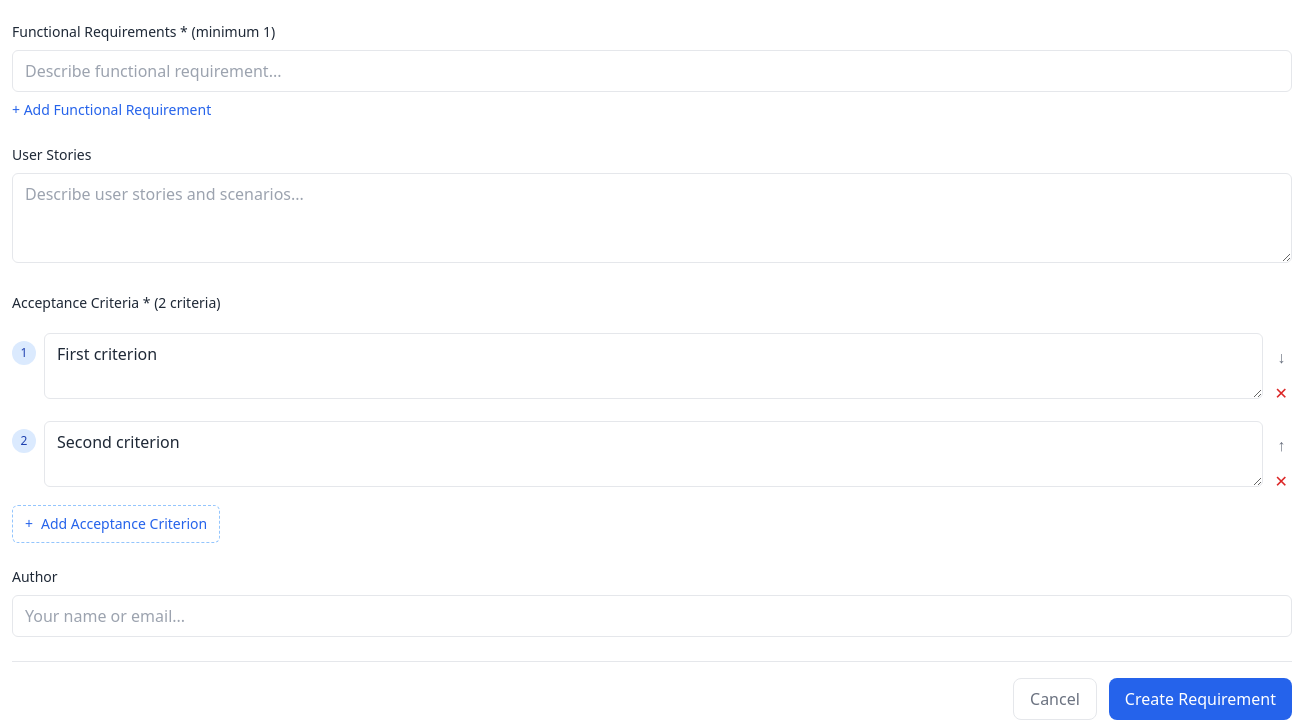
Test case: RequirementForm - Acceptance Criteria Management › Removing Criteria › should remove criterion with Ctrl+Delete keyboard shortcut
(page scrolled)
Click the 2nd text box with placeholder "Given [context], when [action], then [outcome]...".
click(653, 454)  # box [44,421,1263,487]
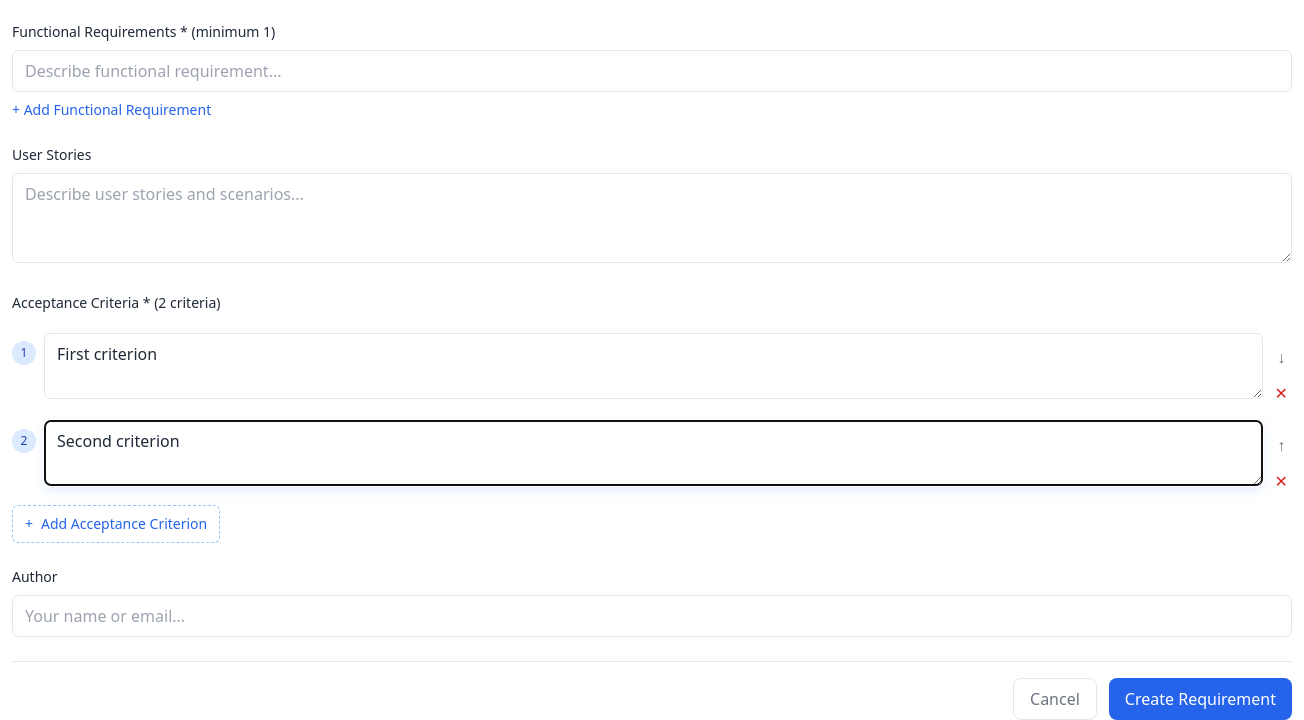
Type keys "{Control>}{Delete}{/Control}"
(page scrolled)
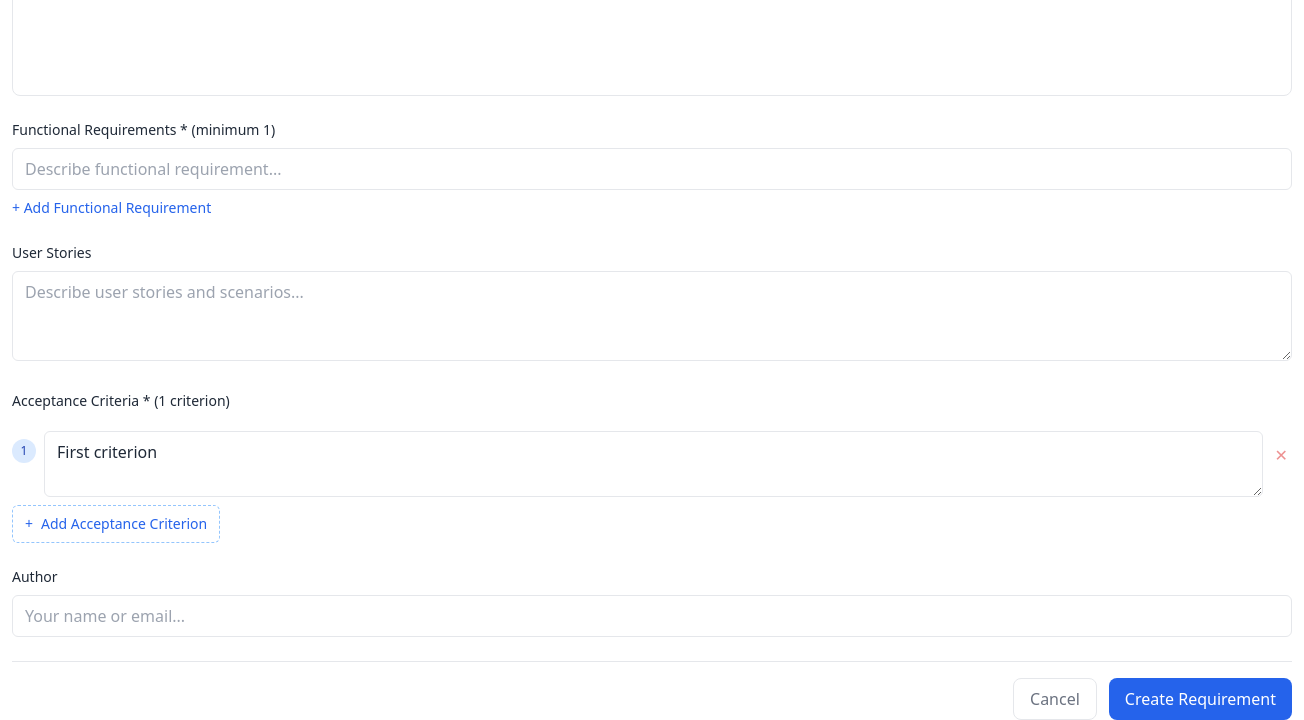
Check: the text box with placeholder "Given [context], when [action], then [outcome]..." holds "First criterion", box [44,431,1263,497]
Check: the text "Acceptance Criteria * (1 criterion)" is shown, box [12,391,230,411]
Check: the number of text boxes with placeholder "Given [context], when [action], then [outcome]..." is 1, box [44,431,1263,497]
